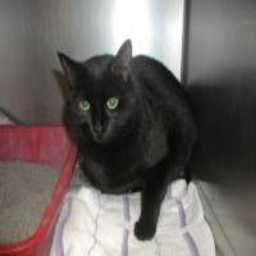cat: (55, 53, 204, 241)
